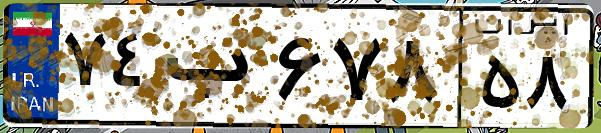4: (110, 28, 158, 98)
5: (475, 38, 525, 113)
6: (270, 28, 330, 110)
7: (330, 28, 385, 110), (57, 26, 110, 100)
8: (385, 28, 445, 110), (525, 38, 570, 115)
ب: (158, 20, 270, 120)
